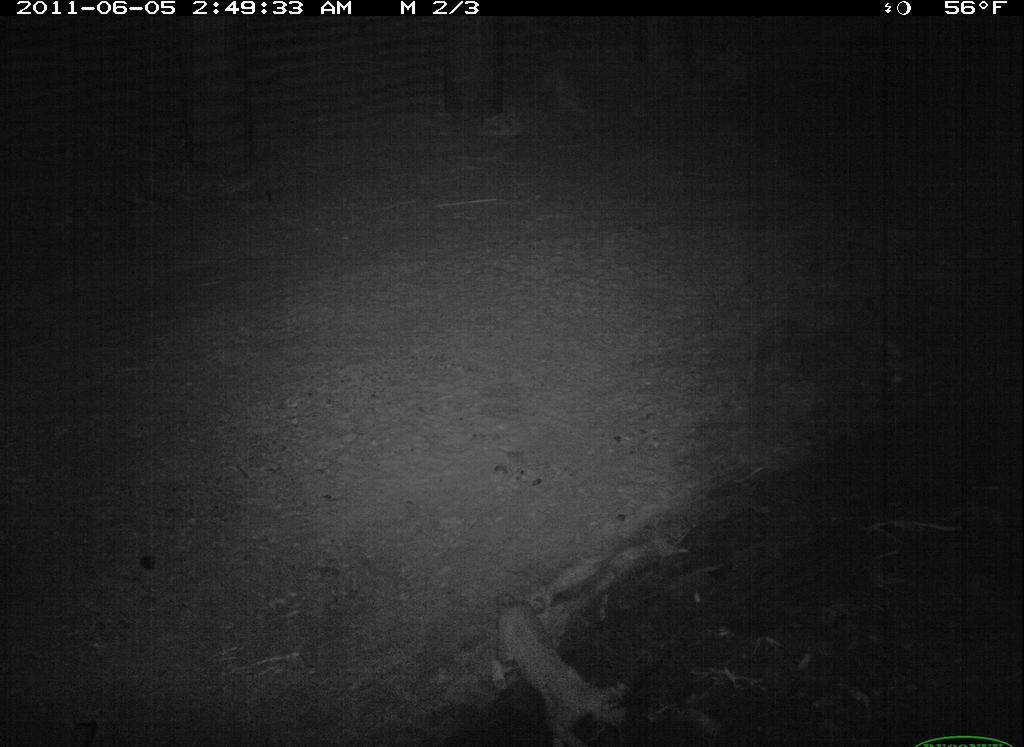bobcat: (493, 594, 635, 747)
